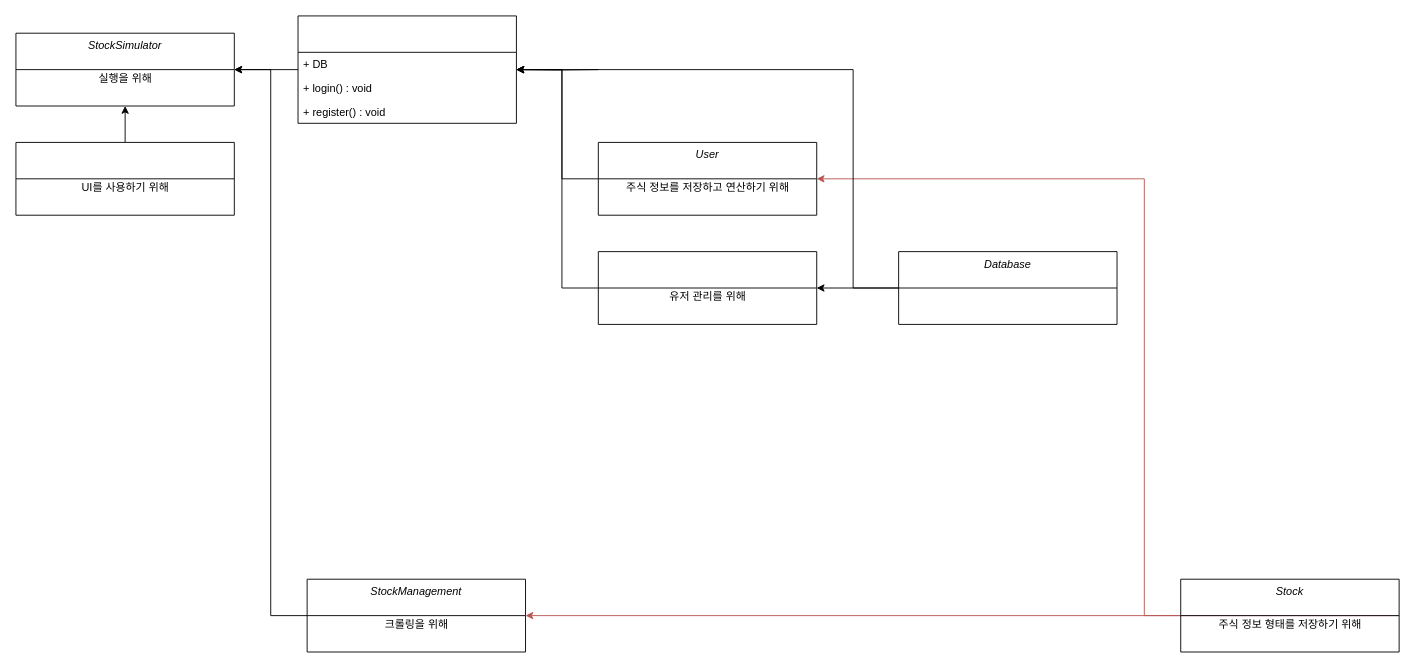
Some shapes in this 1422 by 668 pixel diagram are drawn without their labels. Each missing label, with the box of its shape:
Admin: (597, 251, 817, 324)
UI: (15, 142, 234, 215)
UserManagement: (297, 15, 516, 123)
